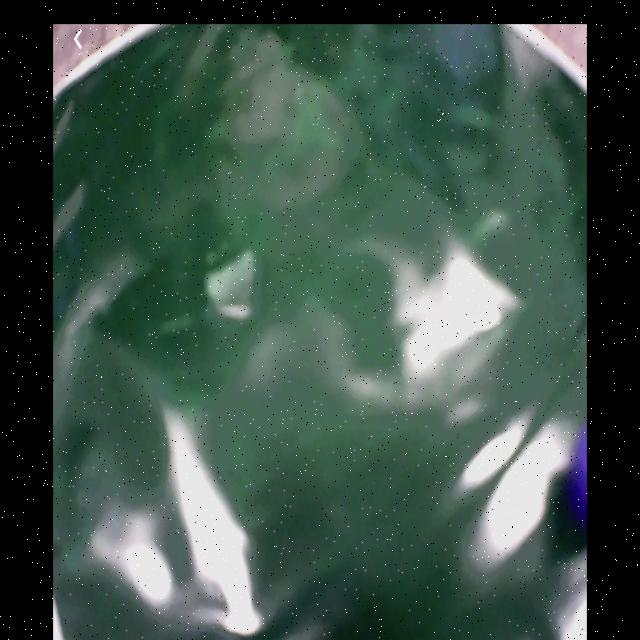ball: (568, 428, 589, 530)
